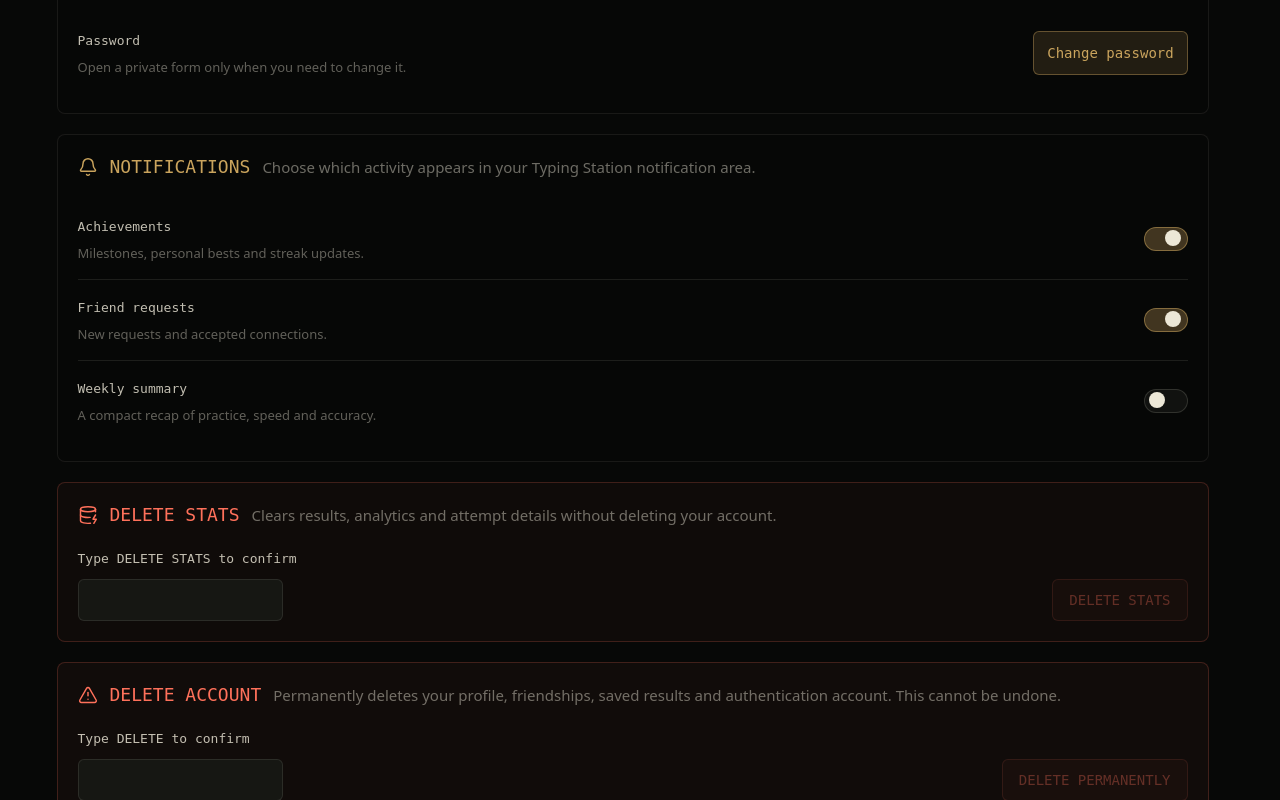
Scenario: Profile account page › does not claim notification preferences were saved when device storage rejects the write
The width and height of the screenshot is (1280, 800).
(page scrolled)
Click the checkbox labelled "Weekly summary" at [132, 388], box [78,360,1188,441]
(page scrolled)
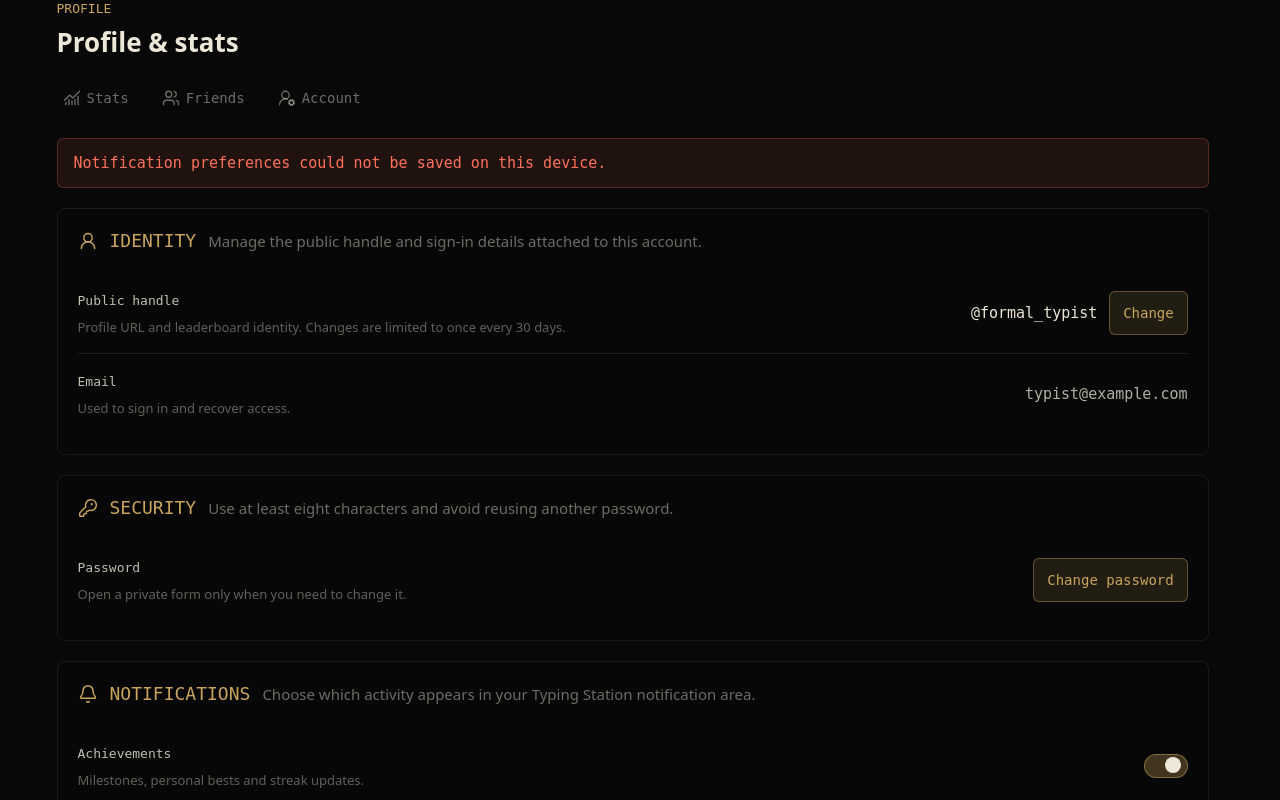
Expected: the message shows "could not be saved on this device", [74,154,606,172]
